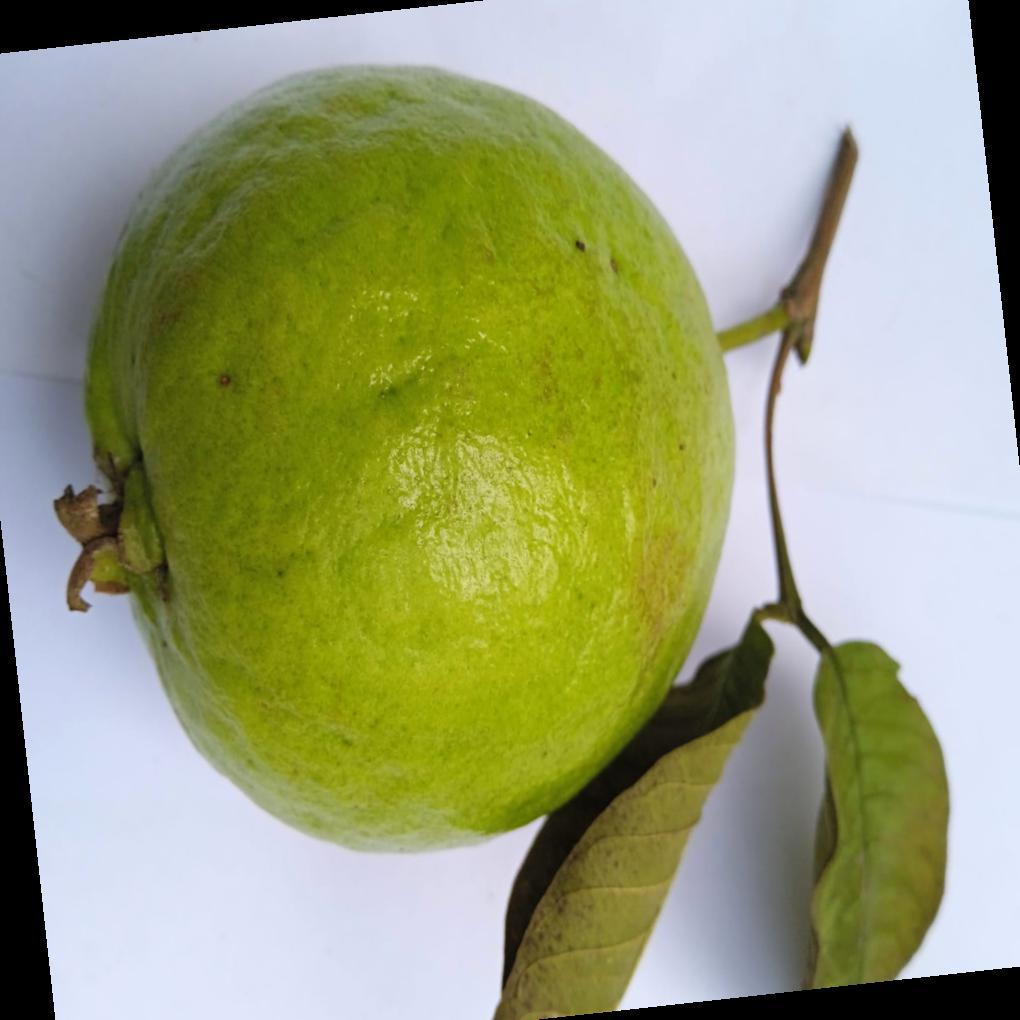FreshGuava: (64, 67, 739, 858)
